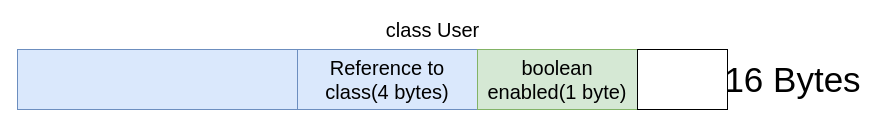
Some shapes in this 885 by 127 pixel diagram are drawn without their labels. The centre of each missing label's shape, as x and y in pixels:
"Metadata(8 bytes)" belongs at (157,79).
"Padding 3 byte" belongs at (682,79).
